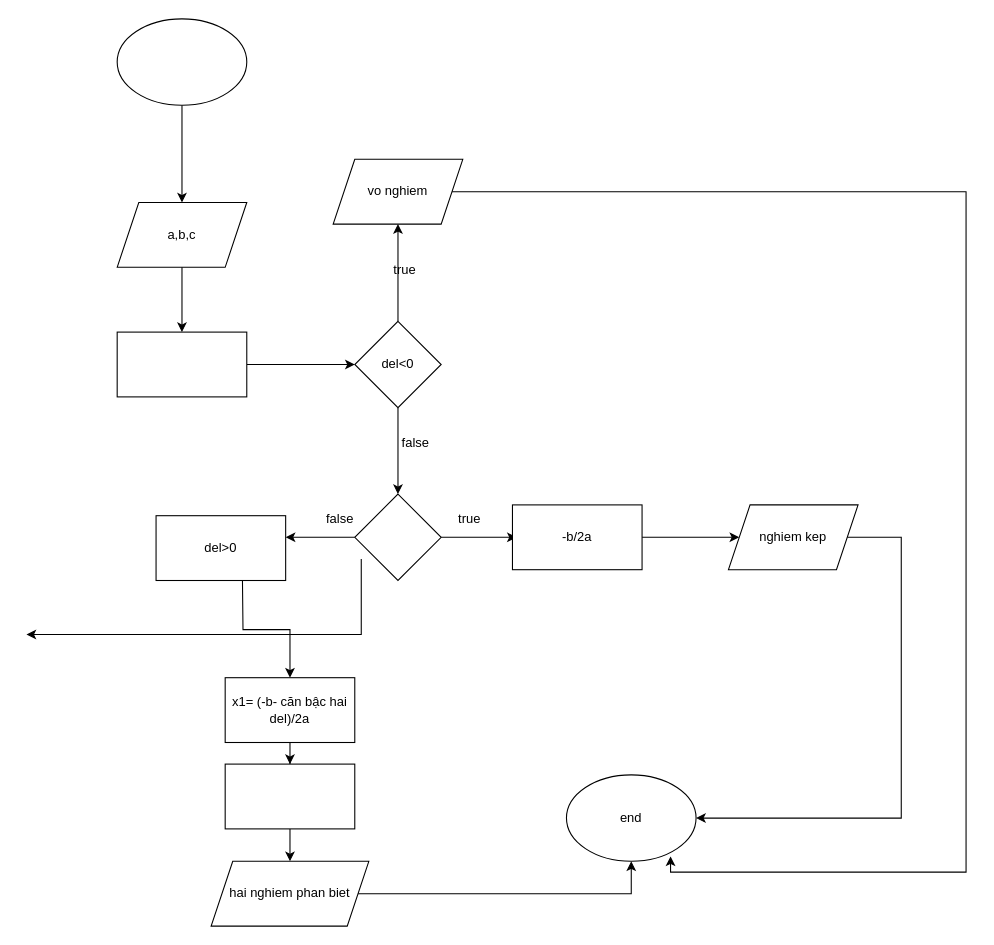
Some shapes in this 994 by 945 pixel diagram are drawn without their labels. The centre of each missing label's shape, as x and y in pixels:
"begin" belongs at (181,61).
"del = b^2-(4*a*c)" belongs at (181,364).
"del=0" belongs at (397,536).
"x2= (-b+ căn bậc hai del)/" belongs at (289,796).
